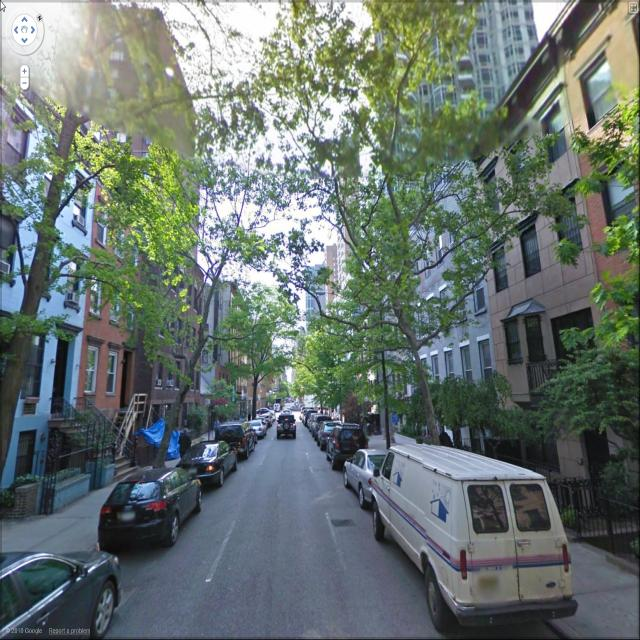b_2: (481, 85, 623, 460), (0, 86, 91, 480), (558, 11, 640, 387), (397, 154, 495, 446), (367, 5, 539, 164), (90, 1, 204, 170), (81, 147, 140, 435), (145, 162, 210, 422), (286, 237, 352, 432), (355, 223, 409, 428), (326, 141, 379, 307), (200, 277, 252, 444)
